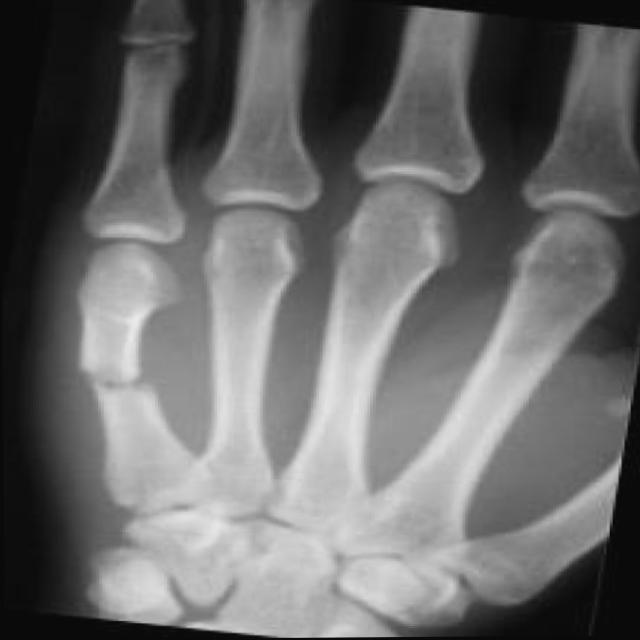Transverse Displaced: (65, 343, 162, 411)
